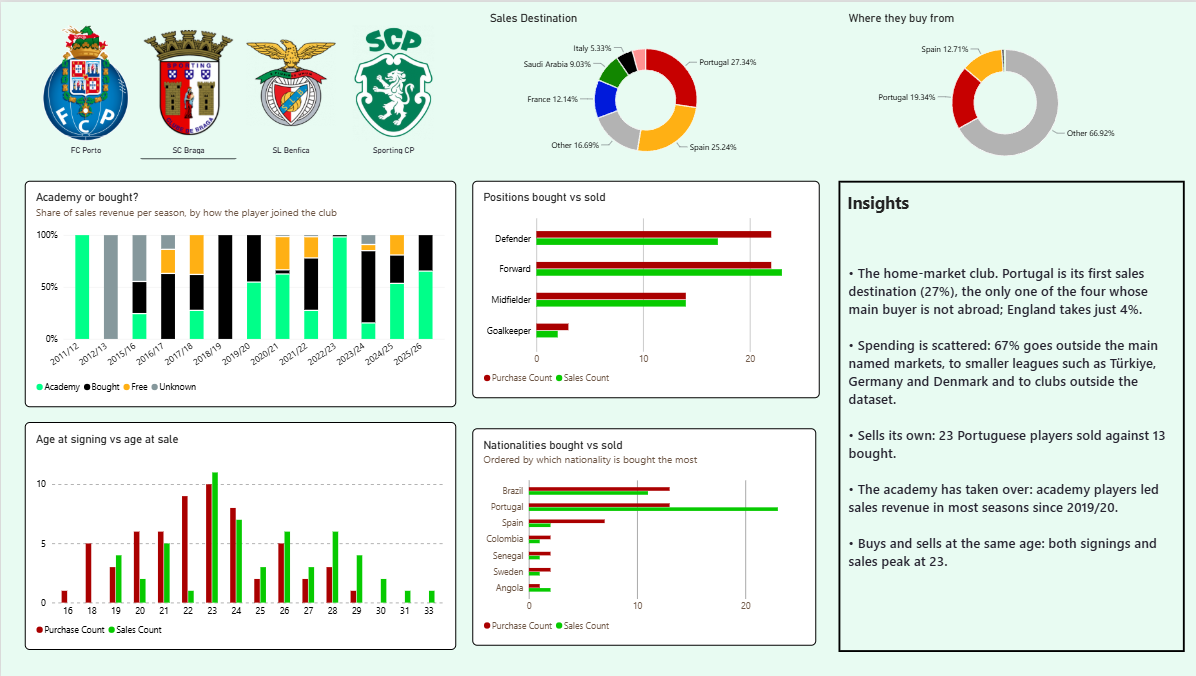

This screenshot's page, from the dashboard's own definition file:
{"tool":"powerbi","page":{"name":"Profile","canvas":[1920,1080],"ordinal":2},"visuals":[{"type":"advancedSlicerVisual","title":"Club","fields":{"Values":["clubs.name"]},"box":[37.5,35,690.7,216.3],"z":0},{"type":"hundredPercentStackedColumnChart","title":"Academy or bought?","fields":{"Category":["Dates.Season"],"Series":["transfers.sale_origin"],"Y":["_Measures.Sales Revenue"]},"box":[37.5,285,690,362.5],"z":1000},{"type":"clusteredColumnChart","title":"Age at signing vs age at sale","fields":{"Category":["transfers.age_at_transfer"],"Y":["_Measures.Purchase Count","_Measures.Sales Count"]},"box":[37.5,672.5,690,365],"z":2000},{"type":"clusteredBarChart","title":"Positions bought vs sold","fields":{"Category":["players.position"],"Y":["_Measures.Purchase Count","_Measures.Sales Count"]},"box":[754,286,556,348],"z":3000},{"type":"clusteredBarChart","title":"Nationalities bought vs sold","fields":{"Category":["players.country_of_citizenship"],"Y":["_Measures.Purchase Count","_Measures.Sales Count"]},"box":[754,682,550,348],"z":4000},{"type":"donutChart","title":"Sales Destination","fields":{"Category":["transfers.sales_destination"],"Y":["_Measures.Sales Revenue"]},"box":[766.7,0,530.9,278.2],"z":5000},{"type":"donutChart","title":"Where they buy from","fields":{"Category":["transfers.purchase_origin"],"Y":["_Measures.Money Spent"]},"box":[1340,0,533.3,286.7],"z":6000},{"type":"shape","box":[1340,286,554,754],"z":7000},{"type":"textbox","box":[1354,302,110,48],"z":7001},{"type":"cardVisual","fields":{"Data":["_Measures.Insights Profile"]},"box":[1340,286,562,754],"z":7002}]}

Visuals, with their boxes in screenshot pixels (x1, y1, x2, y2), scaled from the page's 1920x1080 canvas onto the 1196x676 screenshot:
"Club" advancedSlicerVisual: [23, 22, 454, 157]
"Academy or bought?" hundredPercentStackedColumnChart: [23, 178, 453, 405]
"Age at signing vs age at sale" clusteredColumnChart: [23, 421, 453, 649]
"Positions bought vs sold" clusteredBarChart: [470, 179, 816, 397]
"Nationalities bought vs sold" clusteredBarChart: [470, 427, 812, 645]
"Sales Destination" donutChart: [478, 0, 808, 174]
"Where they buy from" donutChart: [835, 0, 1167, 179]
shape: [835, 179, 1180, 651]
textbox: [843, 189, 912, 219]
cardVisual - _Measures.Insights Profile: [835, 179, 1185, 651]
